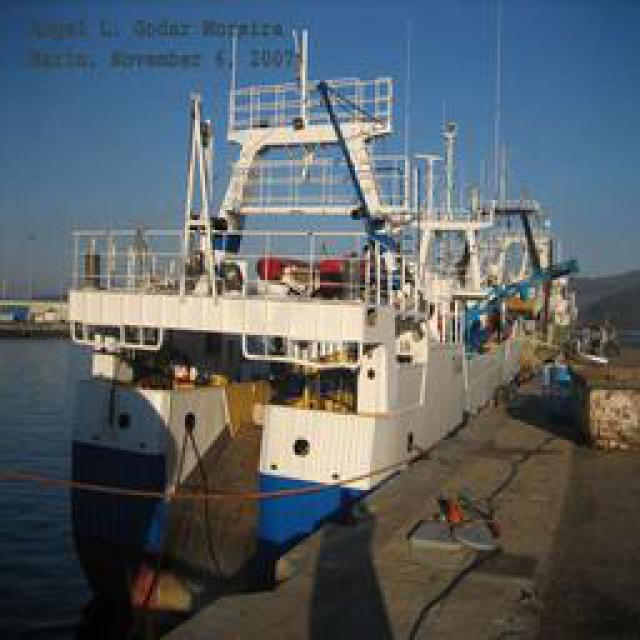Ship: (35, 53, 555, 568)
